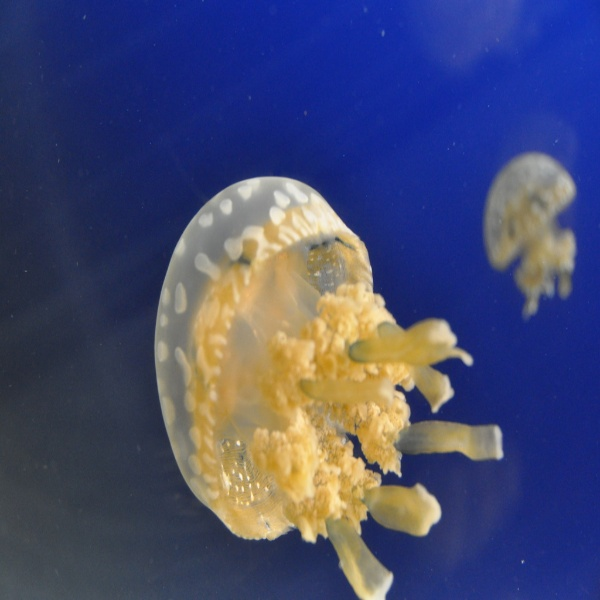Jellyfish: (152, 169, 487, 559), (478, 147, 579, 318)
